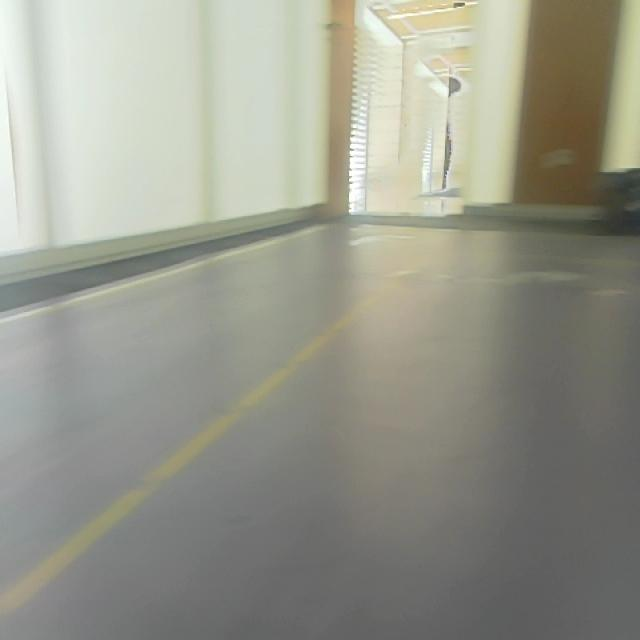left_lane: (1, 279, 392, 618)
